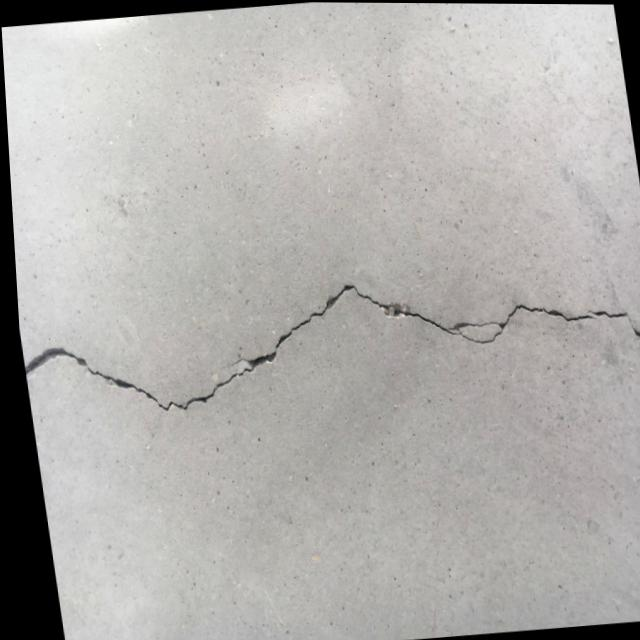Crack: (15, 320, 259, 434), (233, 262, 476, 372), (464, 286, 640, 357)
